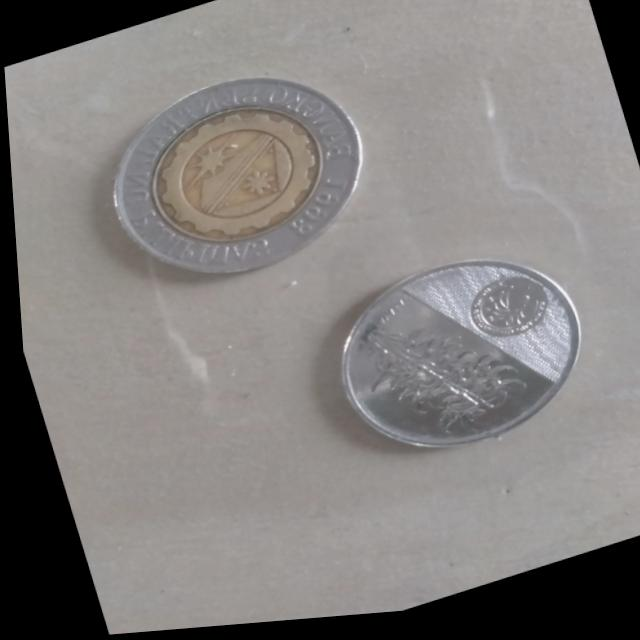10_Old_Back: (80, 50, 383, 310)
5_New_Back: (328, 283, 534, 474)
